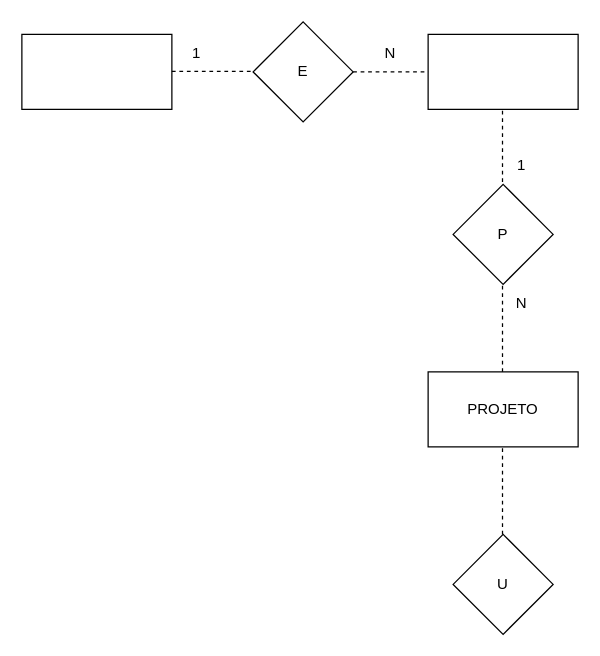
This 600x656 diagram has some shape labels left out. The centre of each missing label's shape, as x and y in pixels:
"DEPARTAMENTO" goes at point 96,71.
"FUNCIONÁRIO" goes at point 502,71.
